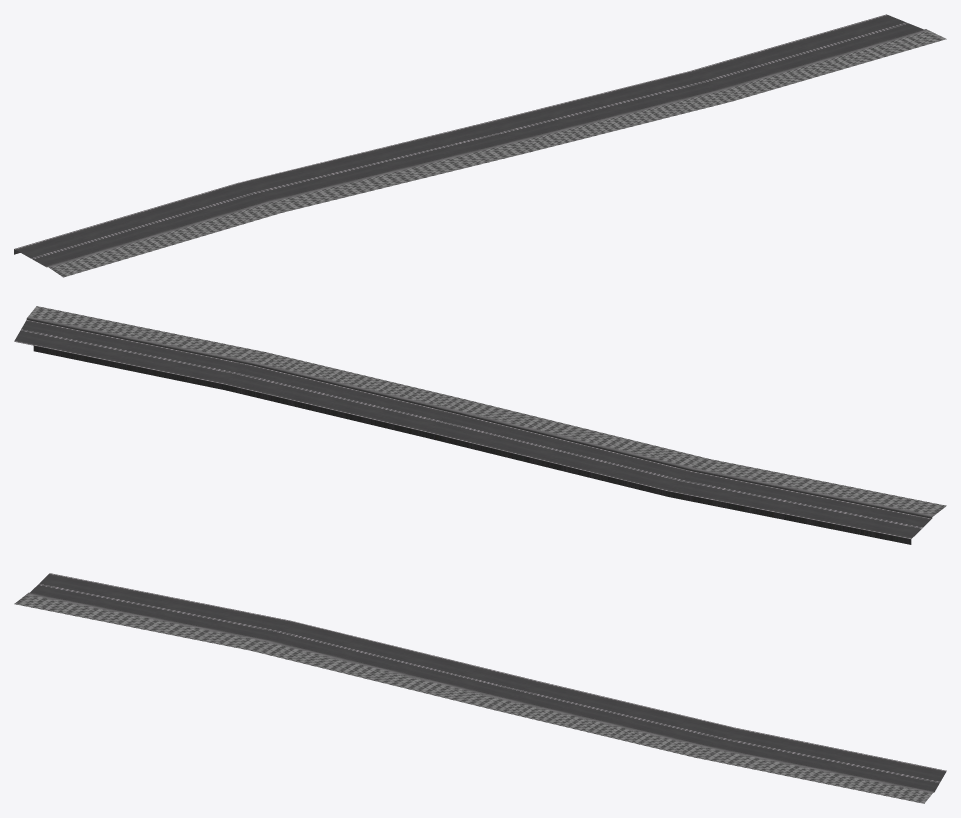
Rendered from road_sfw48.obj.
3 views of the same model, one above another, from view 1: azimuth 30°, elevation 25°; view 2: azimuth 150°, elevation 25°; view 3: azimuth 330°, elevation 25° (orthographic). The views are drawn at different scales.
Visible parts, largest first — view 1: road_SFW48; view 2: road_SFW48; view 3: road_SFW48.
Part boxes in pixels (left/top/right/bottom): road_SFW48: left=14, top=14, right=946, bottom=277; road_SFW48: left=14, top=306, right=946, bottom=544; road_SFW48: left=14, top=573, right=946, bottom=803.
Bounding box in the file's own units: 107 × 0.7948 × 13.28.
Materials: 2 (2 with a texture image).
